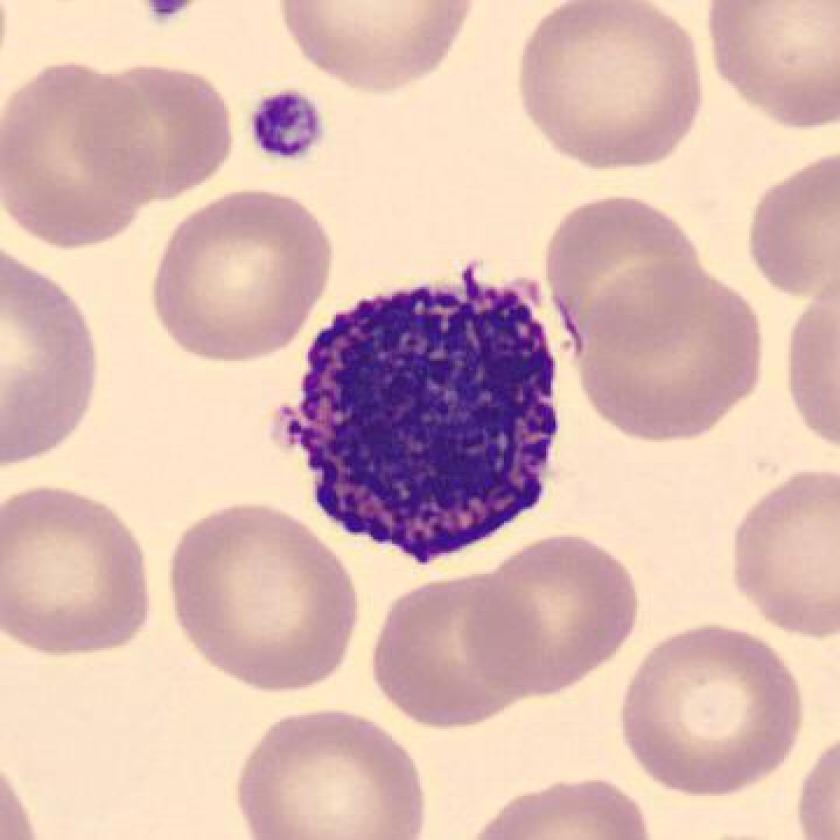basophil: (277, 265, 578, 568)
